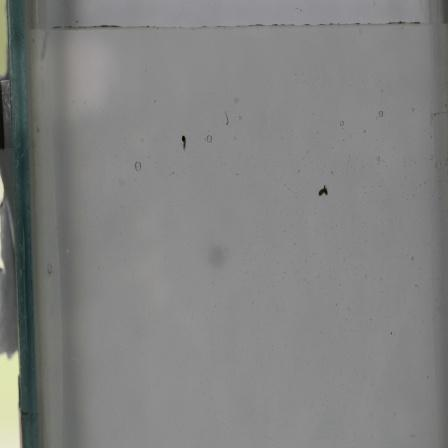Jentik-Nyamuk: (314, 183, 331, 201), (177, 133, 190, 153)
